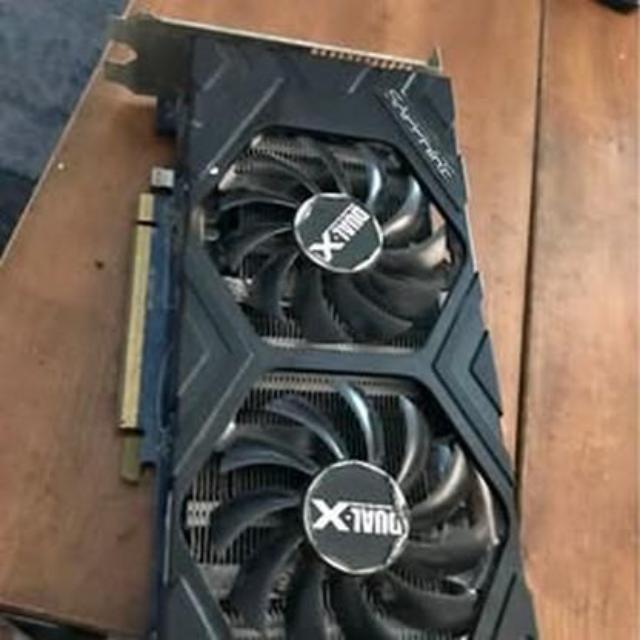GPU: (107, 11, 536, 640)
